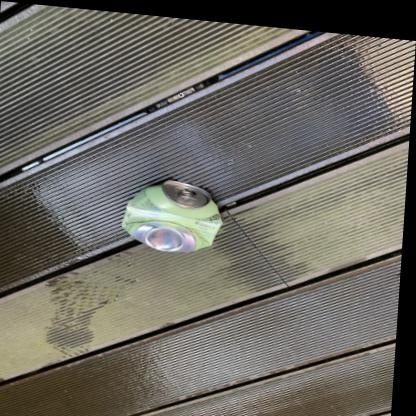trash: (122, 180, 221, 251)
